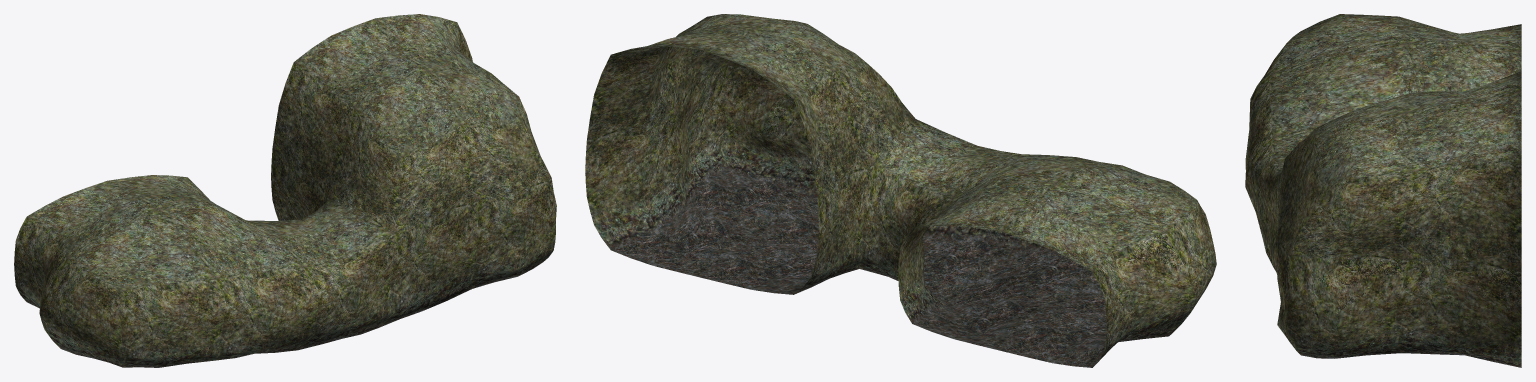
Rendered from thm_all_cave_s03_damprock_r8_r8.fbx.
3 renders of one model, left to right at view 1: azimuth 30°, elevation 25°; view 2: azimuth 150°, elevation 25°; view 3: azimuth 270°, elevation 25°, orthographic. The views are drawn at different scales.
Visible parts, largest first — view 1: mesh_node; view 2: mesh_node; view 3: mesh_node.
Boxes of the visible parts, left/top/right/bottom form: mesh_node: left=14, top=14, right=556, bottom=367; mesh_node: left=585, top=14, right=1216, bottom=367; mesh_node: left=1245, top=14, right=1521, bottom=367.
Size of the model in its own units: 44.12 by 18.91 by 18.42.
